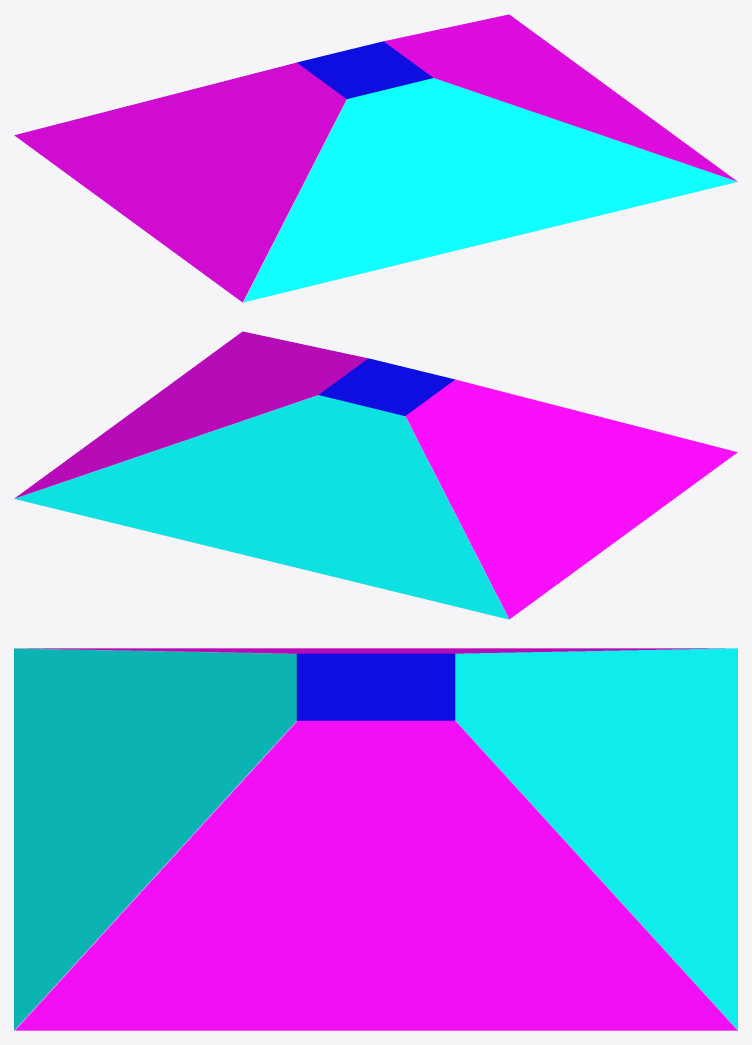
Rendered from testMap.glb.
3 views of the same model, one above another, from view 1: azimuth 30°, elevation 25°; view 2: azimuth 150°, elevation 25°; view 3: azimuth 270°, elevation 25° (orthographic). The views are drawn at different scales.
Parts seen in each view (by area): view 1: Cube; view 2: Cube; view 3: Cube.
Boxes of the visible parts, x1=… form: Cube: x1=14, y1=14, x2=737, y2=302; Cube: x1=14, y1=331, x2=737, y2=619; Cube: x1=14, y1=648, x2=737, y2=1030.
Size of the model in its own units: 11.4 by 2 by 9.12.
Materials: 1 (1 with a texture image).
